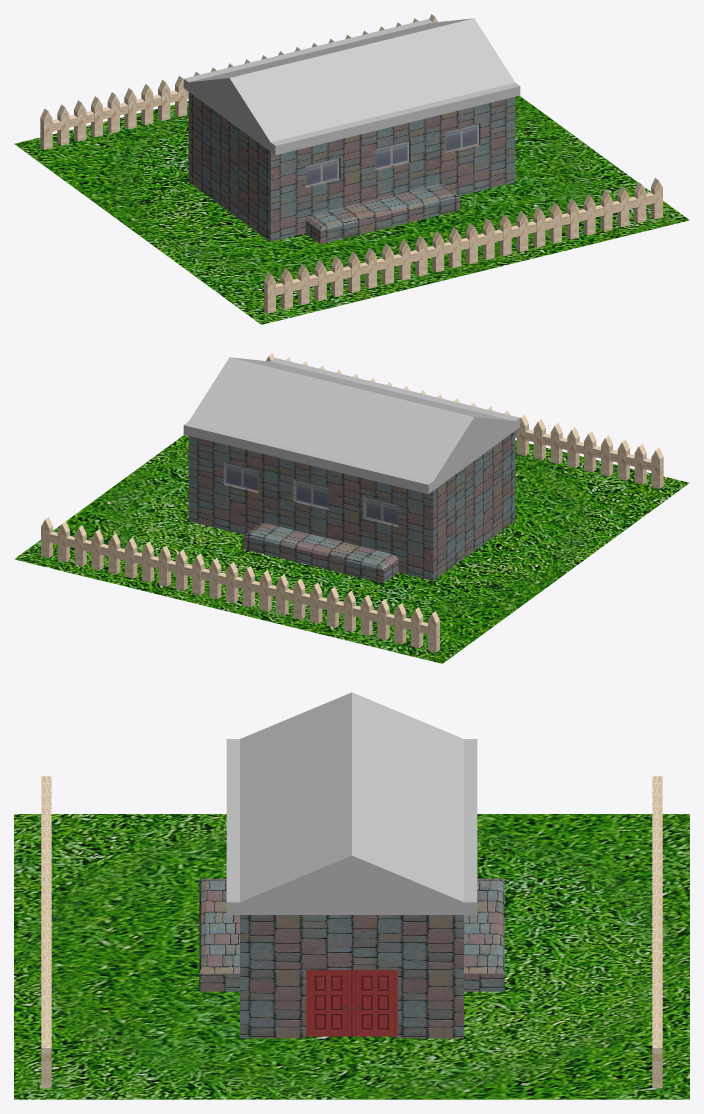
File: casaj.fbx
3 views of the same model, one above another, from view 1: azimuth 30°, elevation 25°; view 2: azimuth 150°, elevation 25°; view 3: azimuth 270°, elevation 25° (orthographic). The views are drawn at different scales.
Parts seen in each view (by area): view 1: Cube, Plane, Cube.001, Cube.002; view 2: Cube, Plane, Cube.001, Cube.002; view 3: Plane, Cube, Cube.001.
Boxes of the visible parts, box(x1,y1,x2,y2) form: Cube: box(183, 18, 520, 244); Plane: box(14, 95, 689, 324); Cube.001: box(40, 14, 662, 313); Cube.002: box(52, 90, 654, 295); Cube: box(183, 357, 520, 583); Plane: box(14, 434, 689, 663); Cube.001: box(41, 353, 663, 652); Cube.002: box(49, 429, 651, 634); Plane: box(14, 814, 689, 1099); Cube: box(199, 692, 504, 1038); Cube.001: box(41, 776, 662, 1088).
Bounding box in the file's own units: 900 × 270 × 900.
